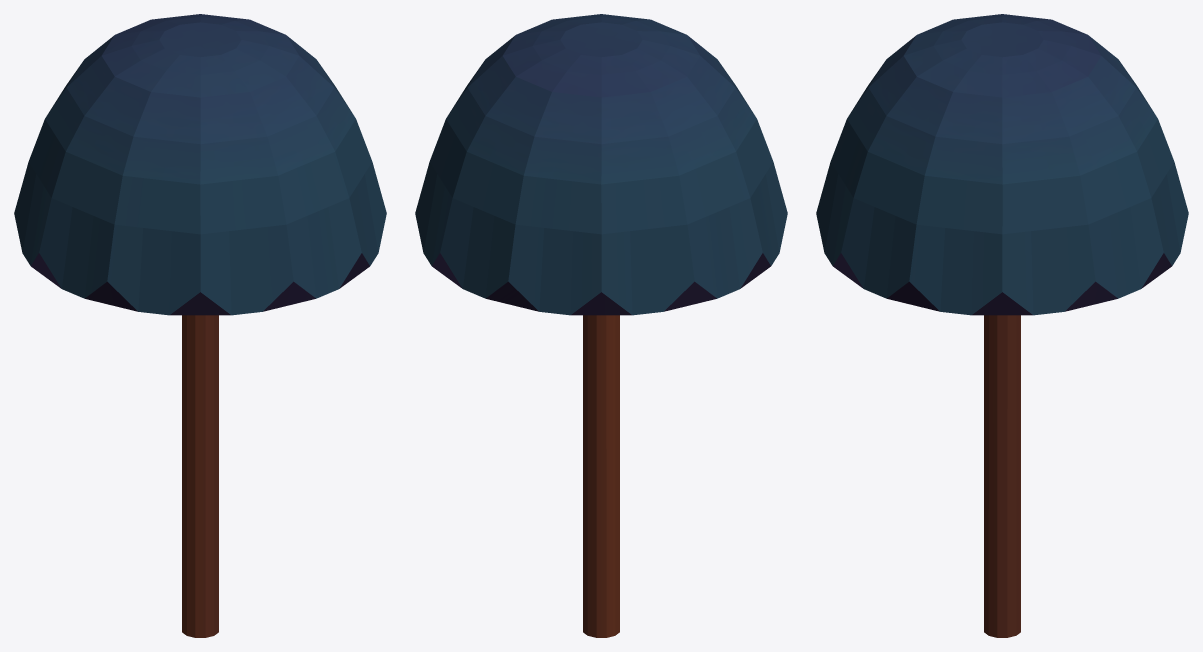
Rendered from Garden_Shrub02.fbx.
The picture shows the model from 3 angles, left to right: view 1: azimuth 30°, elevation 25°; view 2: azimuth 150°, elevation 25°; view 3: azimuth 270°, elevation 25°; orthographic projection.
Visible parts, largest first — view 1: Cylinder.211; view 2: Cylinder.211; view 3: Cylinder.211.
Boxes of the visible parts, box(x1,y1,x2,y2) form: Cylinder.211: box(14, 14, 386, 637); Cylinder.211: box(415, 14, 787, 637); Cylinder.211: box(816, 14, 1188, 637).
Bounding box in the file's own units: 74 × 129 × 74.
